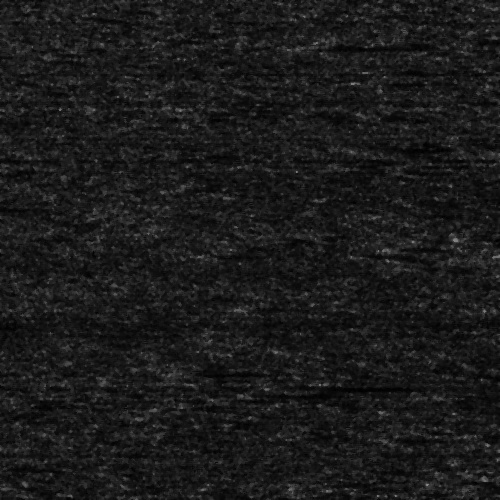object: (262, 382, 335, 389), (235, 386, 276, 397), (278, 42, 319, 49), (440, 231, 471, 240), (348, 77, 401, 82), (174, 369, 227, 374), (386, 244, 417, 249), (478, 249, 500, 254), (485, 79, 500, 86), (473, 307, 500, 310)
shadow: (256, 386, 382, 397), (299, 382, 428, 389), (299, 42, 406, 49), (375, 77, 482, 82), (201, 369, 293, 374), (455, 231, 500, 240), (401, 244, 472, 249), (0, 319, 33, 328), (0, 201, 17, 208)
